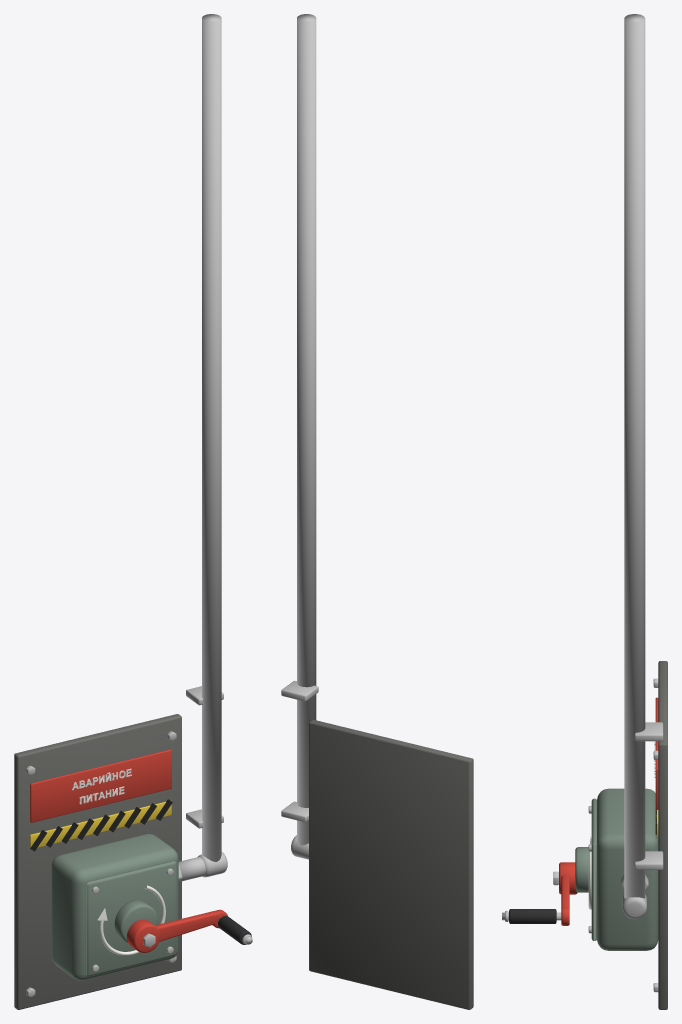
The model's file is EmergencyCrank.fbx.
3 renders of one model, left to right at view 1: azimuth 30°, elevation 25°; view 2: azimuth 150°, elevation 25°; view 3: azimuth 270°, elevation 25°, orthographic. The views are drawn at different scales.
Visible parts, largest first — view 1: CrankBase, CrankHandle; view 2: CrankBase; view 3: CrankBase, CrankHandle.
Boxes of the visible parts, left/top/right/bottom form: CrankBase: left=14, top=14, right=227, bottom=1009; CrankHandle: left=127, top=909, right=252, bottom=952; CrankBase: left=281, top=14, right=473, bottom=1009; CrankBase: left=575, top=14, right=667, bottom=1009; CrankHandle: left=502, top=862, right=577, bottom=925.
Bounding box in the file's own units: 49.75 × 233 × 35.
